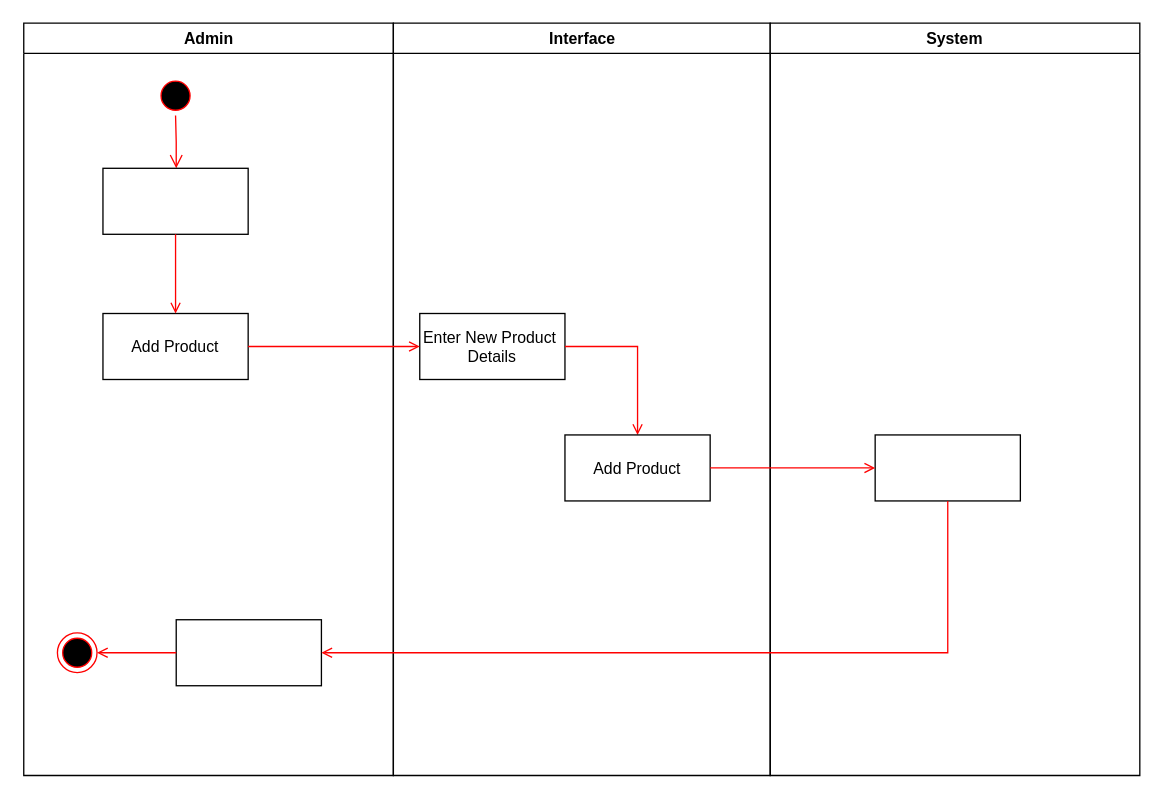
The diagram is 1163 pixels wide and 799 high, and some of its shapes have lost their labels. The centre of each missing label's shape, as x and y in pixels:
Admin Options: the point at 175,200
Save Product: the point at 947,467
View Products: the point at 248,652
